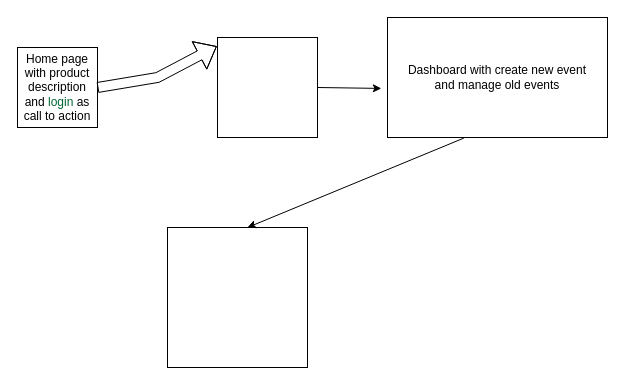
This 625x385 diagram has some shape labels left out. The centre of each missing label's shape, as x and y in pixels:
Create new event event description then google drive access with all the pdfs: pixel 237 297
Login / Sign Up Page: pixel 267 87
